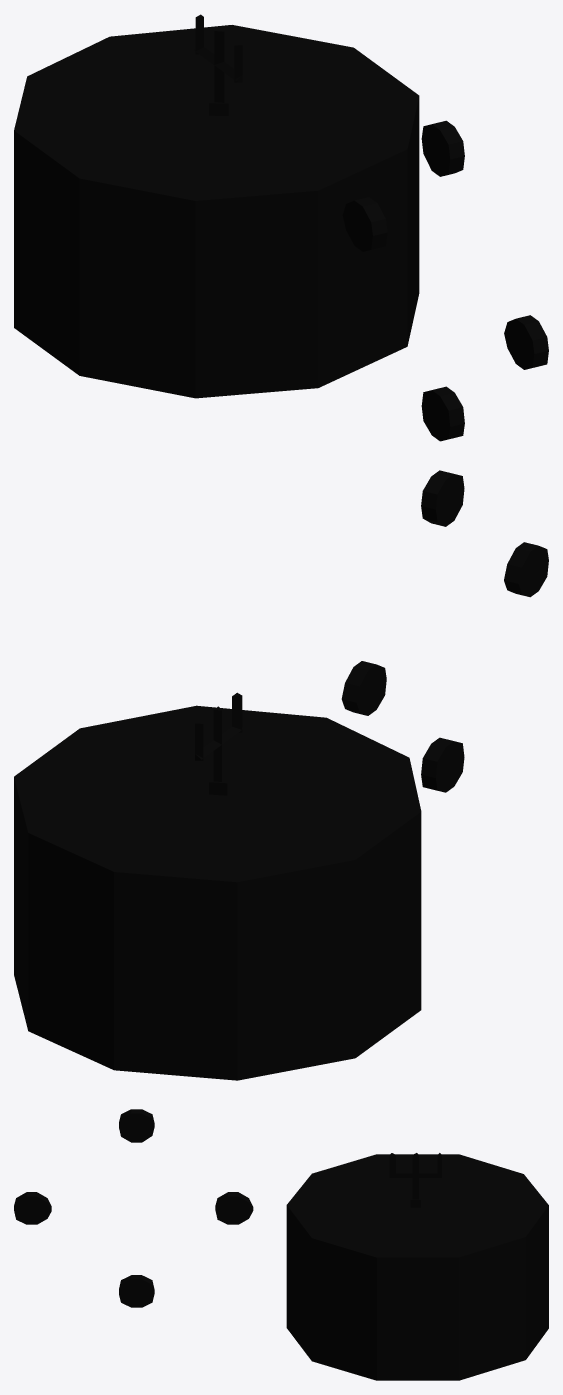
File: Table.glb
3 renders of one model, top to bottom at view 1: azimuth 30°, elevation 25°; view 2: azimuth 150°, elevation 25°; view 3: azimuth 270°, elevation 25°, orthographic. The views are drawn at different scales.
Visible parts, largest first — view 1: Table; view 2: Table; view 3: Table.
Boxes of the visible parts, bbox=[...] form: Table: bbox=[14, 14, 548, 441]; Table: bbox=[14, 470, 548, 1080]; Table: bbox=[14, 1109, 548, 1380].
Size of the model in its own units: 93.72 by 92.1 by 205.
1 material, 1 textured.
